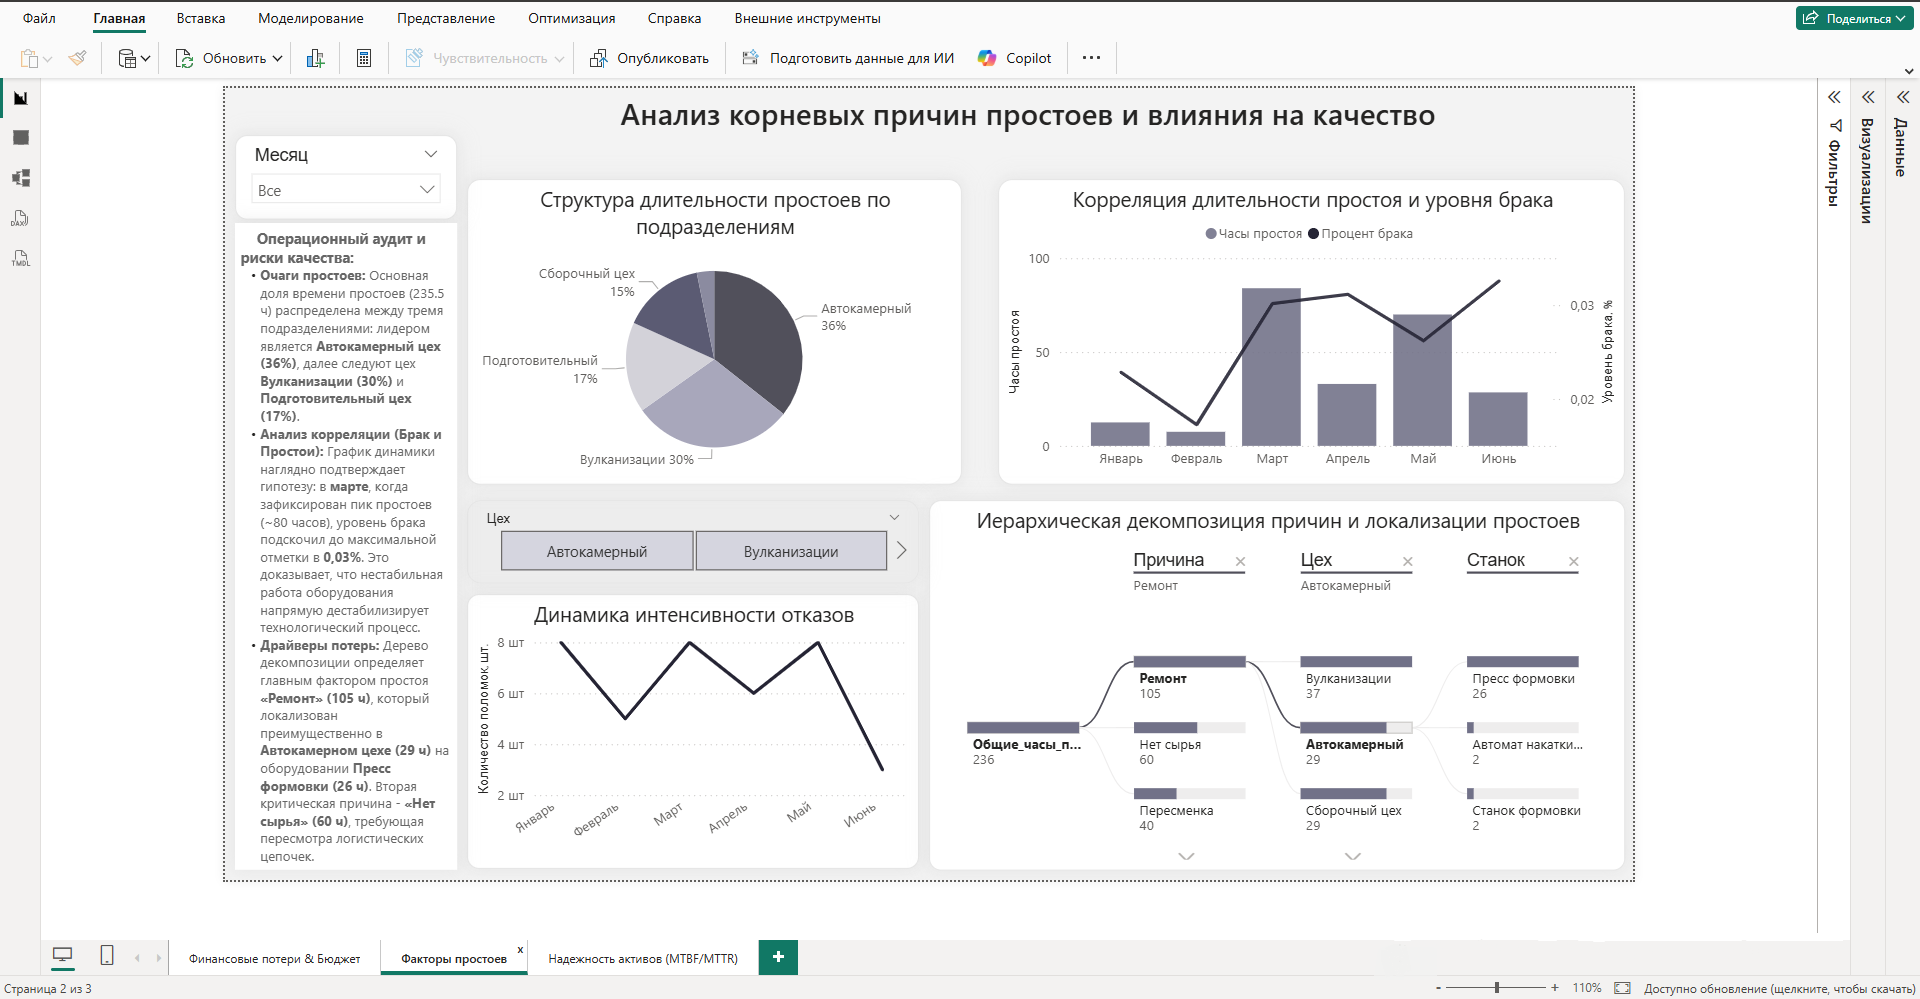

Layout of this report page (visuals, bound fields, positions):
{"tool":"powerbi","page":{"name":"Факторы простоев","canvas":[1280,720],"ordinal":1},"visuals":[{"type":"textbox","box":[347.5,0,780.9,58.2],"z":0},{"type":"lineChart","title":"Динамика интенсивности отказов ","fields":{"Category":["Календарь.Date.Изменение.Иерархия дат.Месяц"],"Y":["_Меры.Количество_поломок"]},"box":[220.3,460.3,411,249.9],"z":1000},{"type":"lineClusteredColumnComboChart","title":"Корреляция длительности простоя и уровня брака","fields":{"Category":["Календарь.Date.Изменение.Иерархия дат.Месяц"],"Y":["_Меры.Общие_часы_простоя"],"Y2":["_Меры.%_Брака"]},"box":[703,82.4,570.4,277.6],"z":2000},{"type":"pieChart","title":"Структура длительности простоев  по подразделениям","fields":{"Category":["Справочник_цехов.Цех"],"Y":["_Меры.%_простоев_цех"]},"box":[220.3,82.4,449.6,277.6],"z":3000},{"type":"decompositionTreeVisual","title":"Иерархическая декомпозиция причин и локализации простоев","fields":{"Analyze":["_Меры.Общие_часы_простоя"],"ExplainBy":["Таблица_простои.Причина_Простоя","Справочник_цехов.Цех","Справочник_оборудования.Название_Станка"]},"box":[640.3,374.3,633.1,336.7],"z":4000},{"type":"slicer","fields":{"Values":["Справочник_цехов.Цех"]},"box":[220.3,374.3,411,76.1],"z":5000},{"type":"slicer","fields":{"Values":["Календарь.Date.Изменение.Иерархия дат.Месяц"]},"box":[9,43,202.4,77],"z":6000},{"type":"textbox","box":[9,122.7,202.4,588.4],"z":7000}]}

Visuals, with their boxes on the page's 1280x720 design canvas (x1, y1, x2, y2). These are canvas units, not pixel positions in the 1920x999 screenshot, which may show the page scaled, cropped or inside an application window:
textbox: 348:0:1128:58
"Динамика интенсивности отказов " lineChart: 220:460:631:710
"Корреляция длительности простоя и уровня брака" lineClusteredColumnComboChart: 703:82:1273:360
"Структура длительности простоев  по подразделениям" pieChart: 220:82:670:360
"Иерархическая декомпозиция причин и локализации простоев" decompositionTreeVisual: 640:374:1273:711
slicer - Справочник_цехов.Цех: 220:374:631:450
slicer - Календарь.Date.Изменение.Иерархия дат.Месяц: 9:43:211:120
textbox: 9:123:211:711
